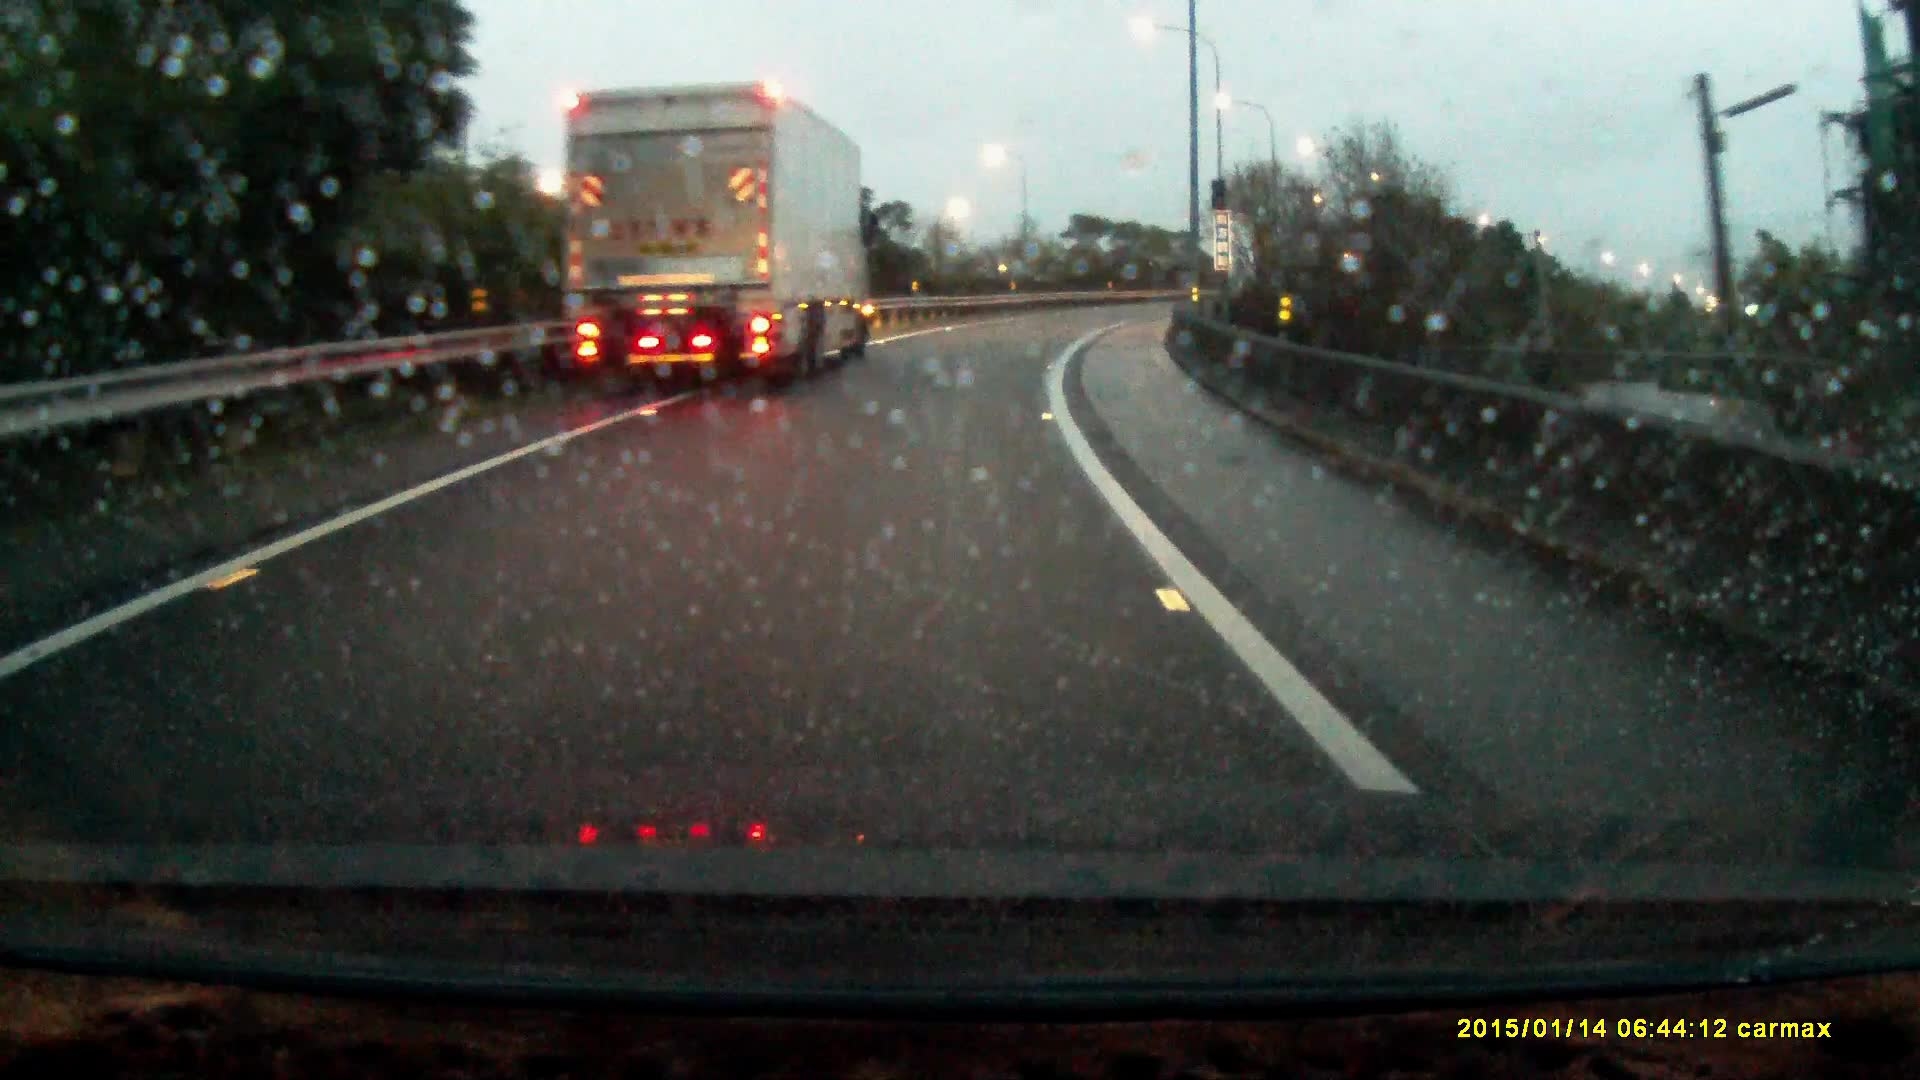vehicle: (556, 80, 876, 392)
